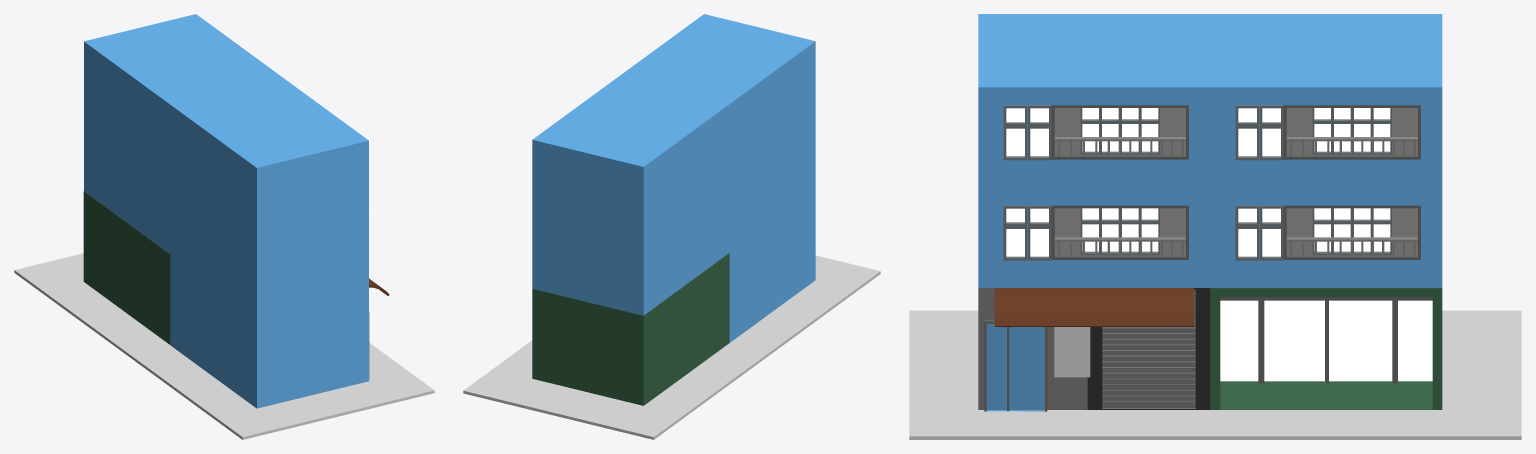
3 views of the same model, side by side, from view 1: azimuth 30°, elevation 25°; view 2: azimuth 150°, elevation 25°; view 3: azimuth 270°, elevation 25° (orthographic). The views are drawn at different scales.
Visible parts, largest first — view 1: 平面.007, 平面.001, 平面.011, 平面, 平面.003, 平面.006, 平面.009; view 2: 平面.011, 平面.006, 平面.007, 平面, 平面.009, 平面.001, 平面.003; view 3: 平面.007, 平面.011, 平面, 平面.006, 平面.003, 平面.009, 平面.001, 平面.004, 平面.002, 平面.010, 平面.005, 平面.008 (+1 smaller).
Part boxes in pixels (left/top/right/bottom): 平面.007: left=170, top=77, right=368, bottom=242; 平面.001: left=170, top=254, right=369, bottom=408; 平面.011: left=84, top=14, right=281, bottom=178; 平面: left=14, top=253, right=434, bottom=439; 平面.003: left=170, top=180, right=368, bottom=317; 平面.006: left=83, top=191, right=170, bottom=344; 平面.009: left=84, top=116, right=170, bottom=253; 平面.011: left=532, top=77, right=729, bottom=241; 平面.006: left=532, top=253, right=729, bottom=405; 平面.007: left=618, top=14, right=815, bottom=177; 平面: left=463, top=255, right=880, bottom=439; 平面.009: left=532, top=178, right=729, bottom=315; 平面.001: left=729, top=190, right=815, bottom=342; 平面.003: left=729, top=116, right=815, bottom=252; 平面.007: left=978, top=14, right=1210, bottom=187; 平面.011: left=1210, top=14, right=1442, bottom=187; 平面: left=909, top=310, right=1521, bottom=439; 平面.006: left=1210, top=288, right=1442, bottom=409; 平面.003: left=978, top=187, right=1210, bottom=287; 平面.009: left=1210, top=187, right=1442, bottom=287; 平面.001: left=978, top=288, right=1210, bottom=411; 平面.004: left=994, top=288, right=1193, bottom=326; 平面.002: left=1054, top=327, right=1090, bottom=377; 平面.010: left=1286, top=237, right=1417, bottom=256; 平面.005: left=1055, top=237, right=1185, bottom=256; 平面.008: left=1055, top=137, right=1185, bottom=156.
Bounding box in the file's own units: 628 × 761 × 1293.
